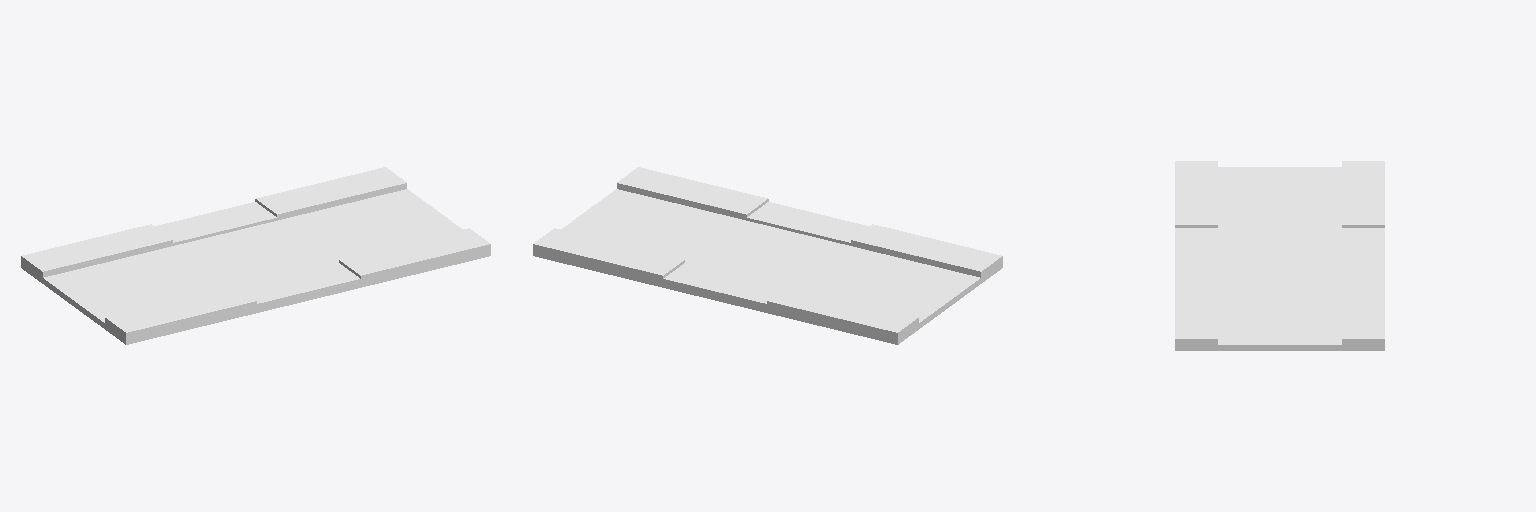
File: roads-0.obj
3 views of the same model, side by side, from view 1: azimuth 30°, elevation 25°; view 2: azimuth 150°, elevation 25°; view 3: azimuth 270°, elevation 25° (orthographic).
Parts seen in each view (by area): view 1: object 1; view 2: object 1; view 3: object 1.
Part boxes in pixels (left/top/right/bottom): object 1: left=21, top=167, right=490, bottom=344; object 1: left=533, top=167, right=1002, bottom=344; object 1: left=1175, top=161, right=1384, bottom=350.
Bounding box in the file's own units: 12.6 × 0.4 × 6.3.